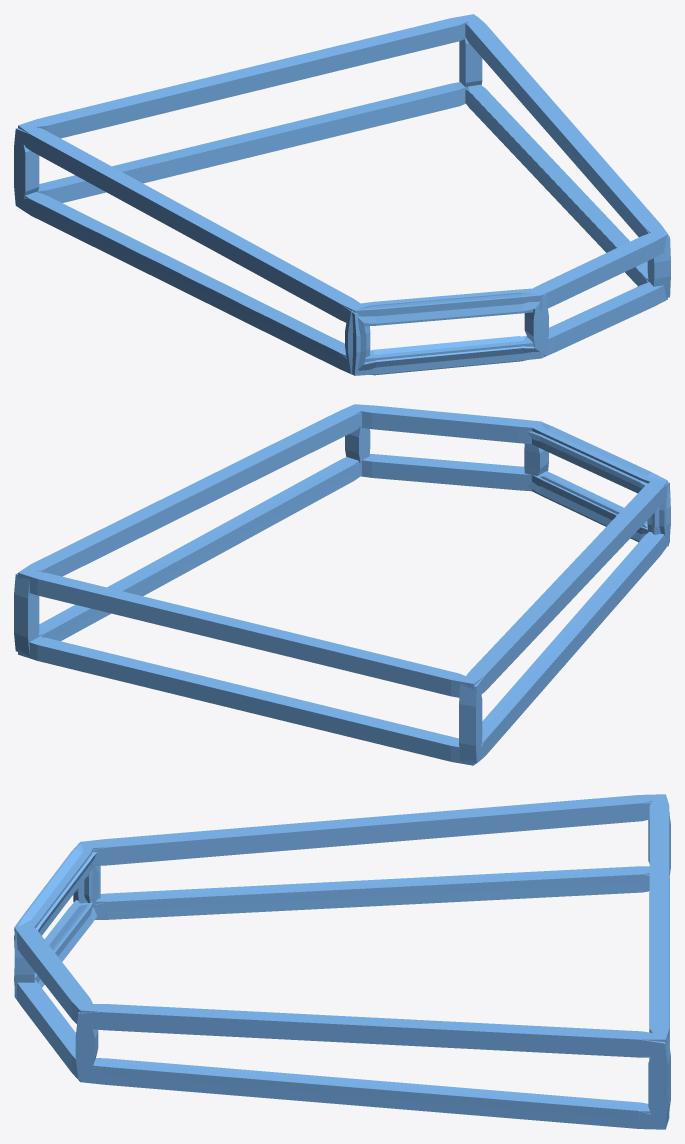
The picture shows the model from 3 angles, top to bottom: view 1: azimuth 30°, elevation 25°; view 2: azimuth 150°, elevation 25°; view 3: azimuth 270°, elevation 25°; orthographic projection. The views are drawn at different scales.
Parts seen in each view (by area): view 1: 飛角; view 2: 飛角; view 3: 飛角.
Part boxes in pixels (<box>): 飛角: <box>14,14,670,375</box>; 飛角: <box>14,404,670,765</box>; 飛角: <box>14,794,670,1129</box>.
Size of the model in its own units: 2.96 by 0.5027 by 3.31.
